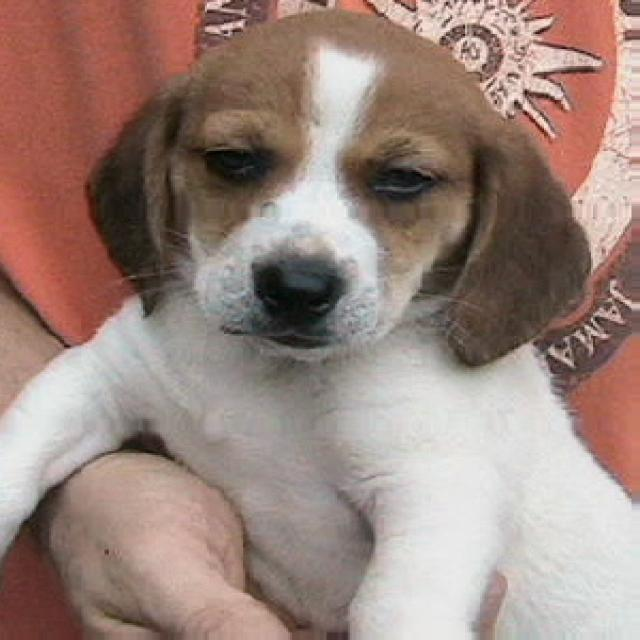Dogs: (0, 6, 638, 638)
